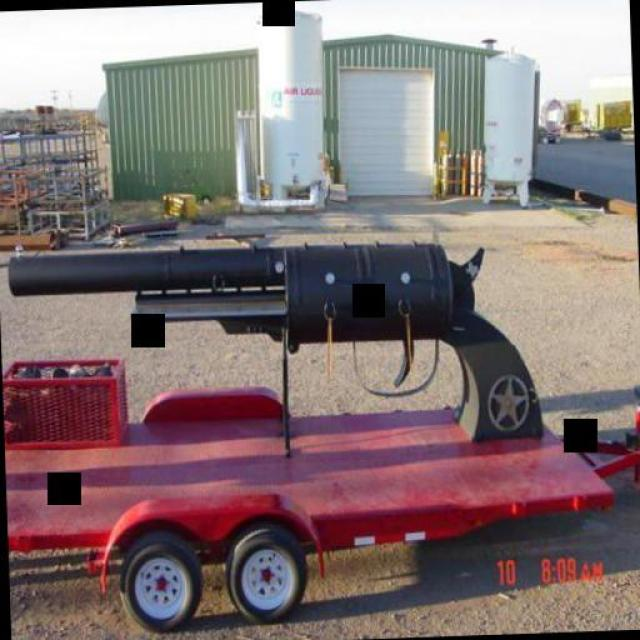gun: (1, 217, 548, 468)
